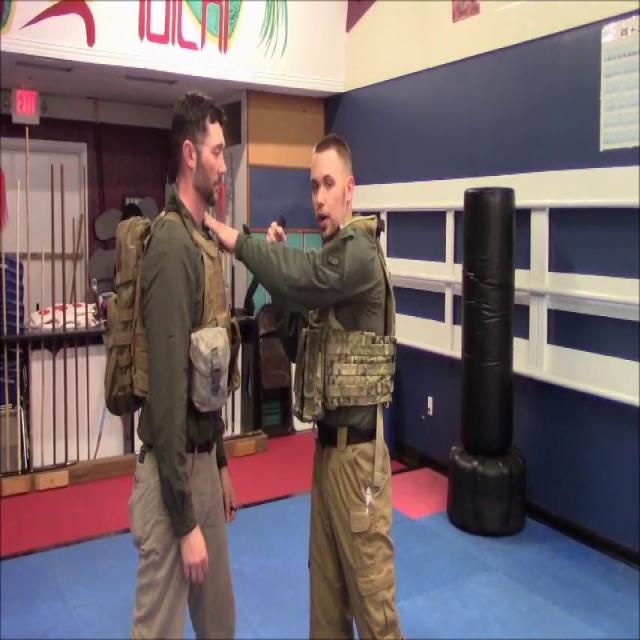knife: (240, 214, 292, 304)
